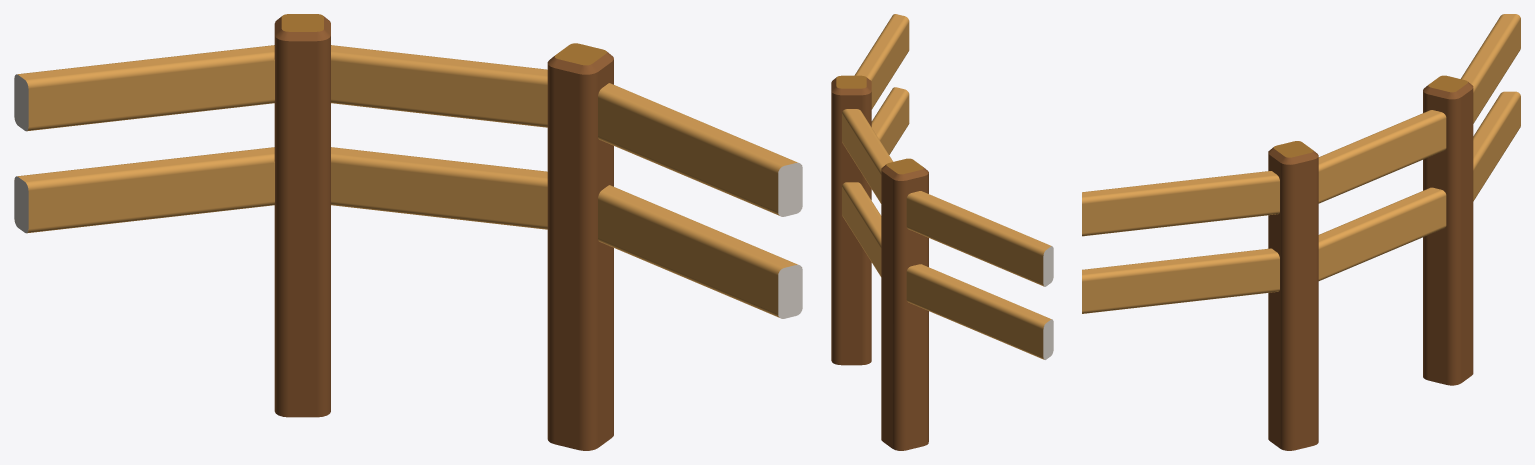
Rendered from Prop_Fence_Curve.obj.
3 renders of one model, left to right at view 1: azimuth 30°, elevation 25°; view 2: azimuth 150°, elevation 25°; view 3: azimuth 270°, elevation 25°, orthographic. The views are drawn at different scales.
Parts seen in each view (by area): view 1: Fence_Railing, Fence_Post, Hidden, Fence_Post_Top; view 2: Fence_Railing, Fence_Post, Fence_Post_Top, Hidden; view 3: Fence_Railing, Fence_Post, Fence_Post_Top.
Part boxes in pixels (<box>): Fence_Railing: <box>17,45,797,317</box>; Fence_Post: <box>274,16,613,450</box>; Hidden: <box>14,74,802,318</box>; Fence_Post_Top: <box>281,14,606,65</box>; Fence_Railing: <box>842,14,1051,359</box>; Fence_Post: <box>831,77,928,450</box>; Fence_Post_Top: <box>836,75,923,174</box>; Hidden: <box>1043,246,1053,359</box>; Fence_Railing: <box>1082,14,1520,313</box>; Fence_Post: <box>1268,82,1473,450</box>; Fence_Post_Top: <box>1273,75,1467,157</box>.
Bounding box in the file's own units: 1.02 × 0.75 × 1.02.
